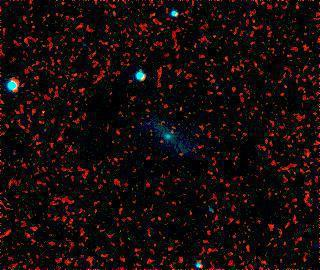star: (61, 11, 91, 41)
